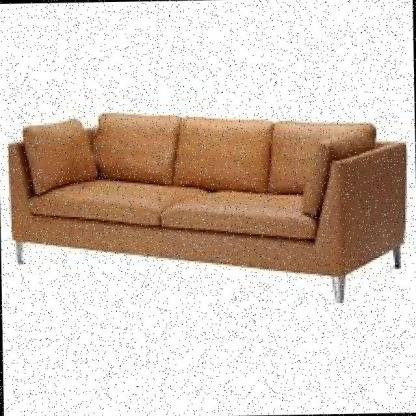Sofa: (0, 92, 415, 342)
